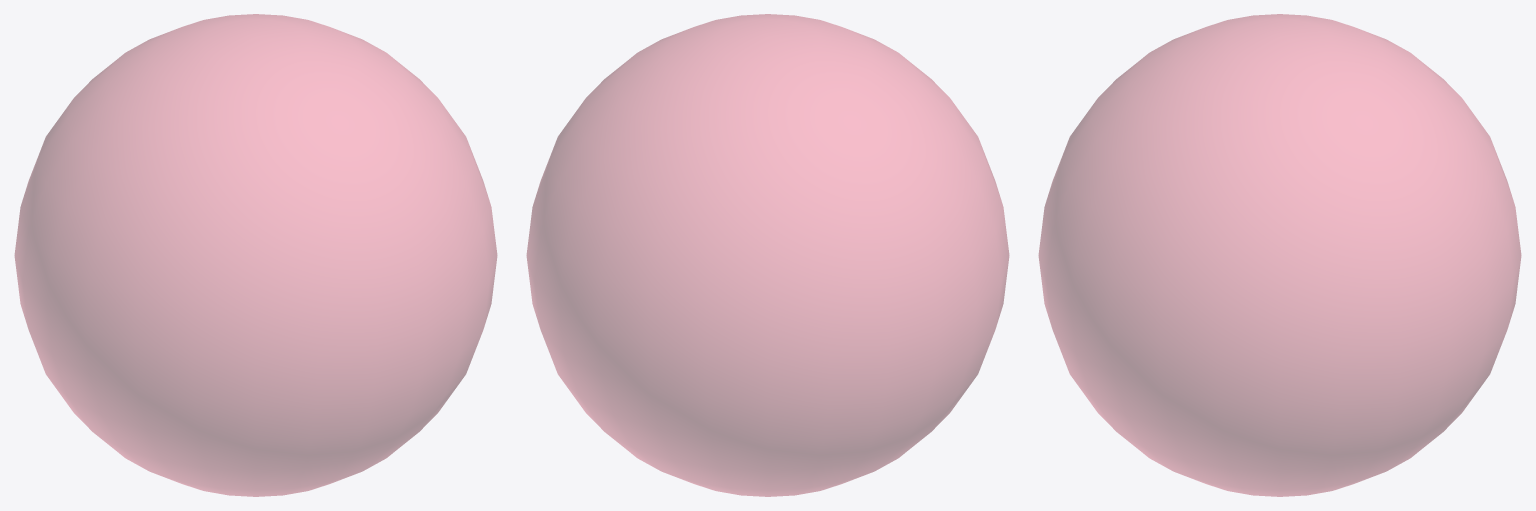
Rendered from mat-blend.gltf.
The picture shows the model from 3 angles, left to right: view 1: azimuth 30°, elevation 25°; view 2: azimuth 150°, elevation 25°; view 3: azimuth 270°, elevation 25°; orthographic projection.
Bounding box in the file's own units: 2 × 2 × 2.
